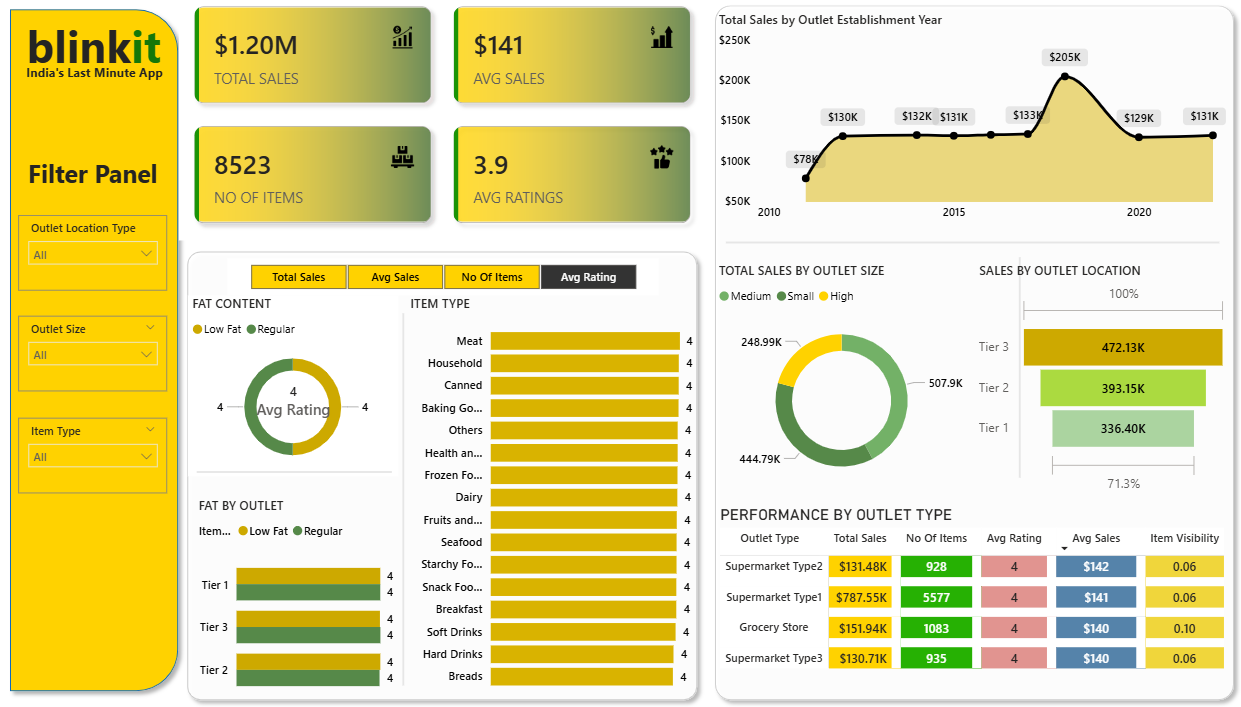

Layout of this report page (visuals, bound fields, positions):
{"tool":"powerbi","page":{"name":"Page 1","canvas":[1400,800],"ordinal":0},"visuals":[{"type":"shape","box":[21.7,23.2,199.9,754.6],"z":0},{"type":"textbox","box":[44.9,44.9,156.5,93],"z":1000},{"type":"textbox","box":[41.8,97.6,179.7,40.3],"z":2000},{"type":"cardVisual","fields":{"Data":["BlinkIT Grocery Data.Total Sales","BlinkIT Grocery Data.Avg Sales","BlinkIT Grocery Data.No Of Items","BlinkIT Grocery Data.Avg Rating"]},"box":[214.8,23.4,570.2,269.9],"z":3000},{"type":"shape","box":[214.8,296.1,568.8,502.7],"z":4000},{"type":"donutChart","title":"FAT CONTENT","fields":{"Y":["BlinkIT Grocery Data.No Of Items"],"Category":["BlinkIT Grocery Data.Item Fat Content"]},"box":[224.5,352.6,227.2,195.6],"z":5000},{"type":"slicer","fields":{"Values":["Metrics.Metrics"]},"box":[267.2,312.6,465.5,39.9],"z":6000},{"type":"cardVisual","fields":{"Data":["BlinkIT Grocery Data.No Of Items"]},"box":[280.9,429.7,115.7,73],"z":7000},{"type":"clusteredBarChart","title":"FAT BY OUTLET","fields":{"Y":["BlinkIT Grocery Data.No Of Items"],"Category":["BlinkIT Grocery Data.Outlet Location Type"],"Series":["BlinkIT Grocery Data.Item Fat Content"]},"box":[231.4,570.2,220.4,230],"z":8000},{"type":"shape","box":[234.1,533,210.7,20.7],"z":9000},{"type":"shape","box":[447.6,371.8,19.3,402.1],"z":10000},{"type":"barChart","title":"ITEM TYPE","fields":{"Y":["BlinkIT Grocery Data.No Of Items"],"Category":["BlinkIT Grocery Data.Item Type"]},"box":[460,352.6,315.4,436.6],"z":11000},{"type":"shape","box":[785,30.3,578.4,768.5],"z":12000},{"type":"lineChart","fields":{"Category":["BlinkIT Grocery Data.Outlet Establishment Year"],"Y":["BlinkIT Grocery Data.Total Sales"]},"box":[793.3,45.4,557.8,235.5],"z":13000},{"type":"shape","box":[805.7,287.8,533,15.1],"z":14000},{"type":"donutChart","title":"TOTAL SALES BY OUTLET SIZE","fields":{"Y":["Sum(BlinkIT Grocery Data.Sales)"],"Category":["BlinkIT Grocery Data.Outlet Size"]},"box":[793.3,317.1,275.4,253.4],"z":15000},{"type":"shape","box":[1116.9,311.2,12.4,238.3],"z":16000},{"type":"funnel","title":"SALES BY OUTLET LOCATION","fields":{"Y":["Sum(BlinkIT Grocery Data.Sales)"],"Category":["BlinkIT Grocery Data.Outlet Location Type"]},"box":[1074.2,316.8,278.2,254.8],"z":17000},{"type":"pivotTable","title":"PERFORMANCE BY OUTLET TYPE","fields":{"Values":["BlinkIT Grocery Data.Total Sales","BlinkIT Grocery Data.No Of Items","BlinkIT Grocery Data.Avg Rating","BlinkIT Grocery Data.Avg Sales","Avg(BlinkIT Grocery Data.Item Visibility)"],"Rows":["BlinkIT Grocery Data.Outlet Type"]},"box":[794.6,579.8,556.4,201.1],"z":18000},{"type":"slicer","fields":{"Values":["BlinkIT Grocery Data.Outlet Location Type"]},"box":[41.3,265.8,161.1,81.3],"z":19000},{"type":"slicer","fields":{"Values":["BlinkIT Grocery Data.Outlet Size"]},"box":[41.3,374.6,161.1,81.3],"z":20000},{"type":"slicer","fields":{"Values":["BlinkIT Grocery Data.Item Type"]},"box":[41.3,484.8,161.1,81.3],"z":21000},{"type":"textbox","box":[41.3,196.9,161.1,56.5],"z":22000}]}

Visuals, with their boxes in screenshot pixels (x1, y1, x2, y2), scaled from the page's 1400x800 canvas onto the 1241x707 screenshot:
shape: l=19, t=21, r=196, b=687
textbox: l=40, t=40, r=179, b=122
textbox: l=37, t=86, r=196, b=122
cardVisual - BlinkIT Grocery Data.Total Sales x BlinkIT Grocery Data.Avg Sales: l=190, t=21, r=696, b=259
shape: l=190, t=262, r=695, b=706
"FAT CONTENT" donutChart: l=199, t=312, r=400, b=484
slicer - Metrics.Metrics: l=237, t=276, r=649, b=312
cardVisual - BlinkIT Grocery Data.No Of Items: l=249, t=380, r=352, b=444
"FAT BY OUTLET" clusteredBarChart: l=205, t=504, r=400, b=706
shape: l=208, t=471, r=394, b=489
shape: l=397, t=329, r=414, b=684
"ITEM TYPE" barChart: l=408, t=312, r=687, b=697
shape: l=696, t=27, r=1209, b=706
lineChart - BlinkIT Grocery Data.Outlet Establishment Year x BlinkIT Grocery Data.Total Sales: l=703, t=40, r=1198, b=248
shape: l=714, t=254, r=1187, b=268
"TOTAL SALES BY OUTLET SIZE" donutChart: l=703, t=280, r=947, b=504
shape: l=990, t=275, r=1001, b=486
"SALES BY OUTLET LOCATION" funnel: l=952, t=280, r=1199, b=505
"PERFORMANCE BY OUTLET TYPE" pivotTable: l=704, t=512, r=1198, b=690
slicer - BlinkIT Grocery Data.Outlet Location Type: l=37, t=235, r=179, b=307
slicer - BlinkIT Grocery Data.Outlet Size: l=37, t=331, r=179, b=403
slicer - BlinkIT Grocery Data.Item Type: l=37, t=428, r=179, b=500
textbox: l=37, t=174, r=179, b=224
